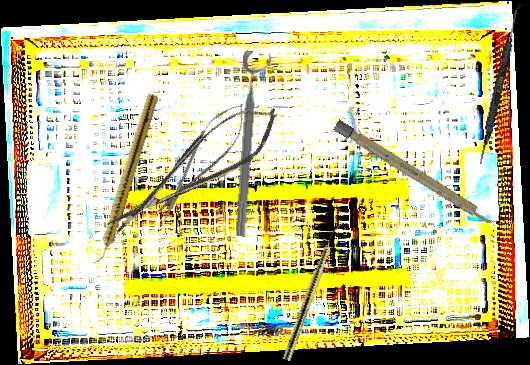Fixation Ring: (230, 50, 274, 238)
Handpiece: (92, 91, 159, 268), (281, 221, 343, 362)
Micro Scissor: (94, 93, 291, 246), (146, 93, 257, 228)
Scalpel Handle: (333, 119, 498, 229)
Spatula Surgical: (477, 2, 522, 166)
